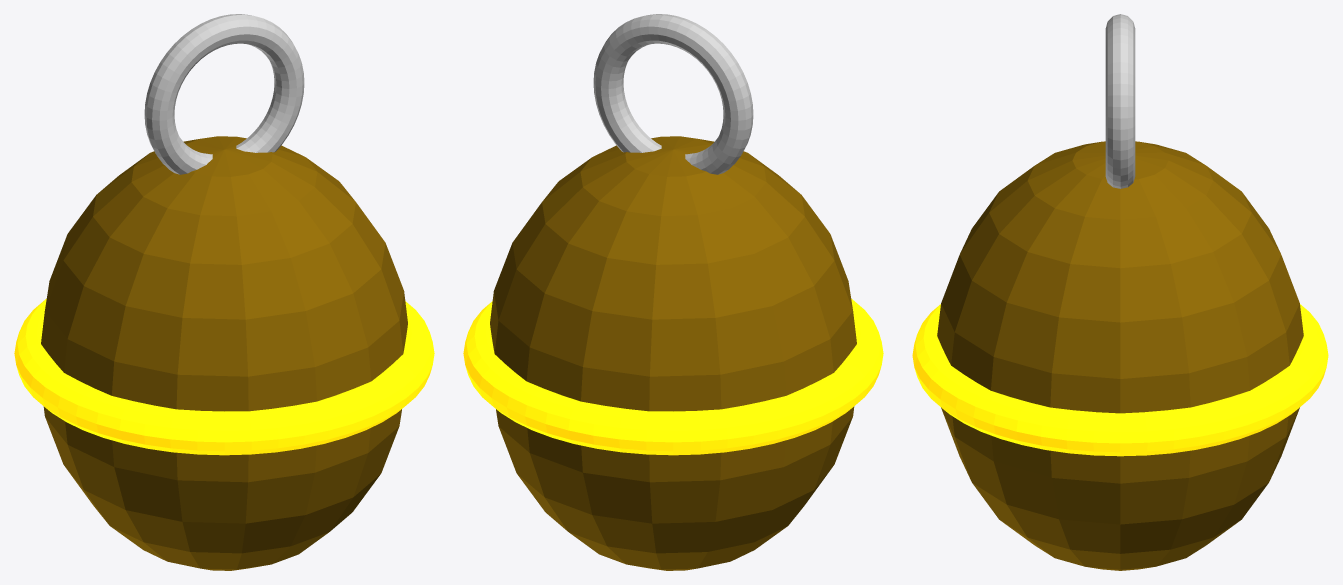
The model's file is SM_Grenade.glb.
The picture shows the model from 3 angles, left to right: view 1: azimuth 30°, elevation 25°; view 2: azimuth 150°, elevation 25°; view 3: azimuth 270°, elevation 25°; orthographic projection.
Parts seen in each view (by area): view 1: SM_Grenade; view 2: SM_Grenade; view 3: SM_Grenade.
Boxes of the visible parts, left/top/right/bottom form: SM_Grenade: left=14, top=14, right=434, bottom=570; SM_Grenade: left=463, top=14, right=883, bottom=570; SM_Grenade: left=912, top=14, right=1328, bottom=570.
Size of the model in its own units: 0.224 by 0.318 by 0.224.
